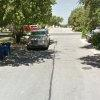Tree: (65, 1, 100, 51)
